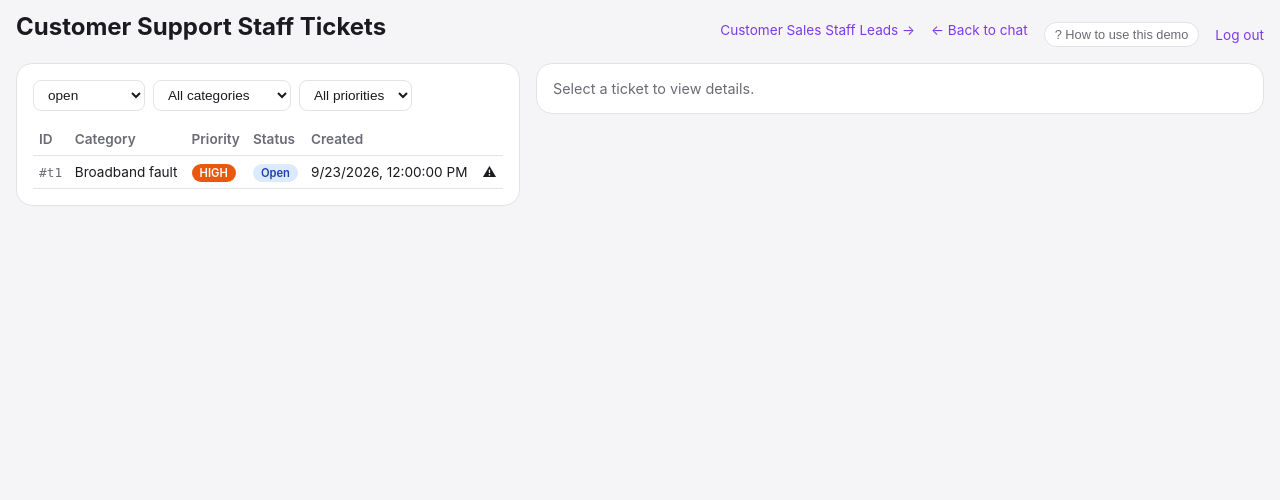
Test: StaffDashboard › 'View duplicate' shows the linked ticket's full detail alongside the current one, without navigating away
Click the text "Broadband fault": point(268, 172) [33, 156, 503, 188]
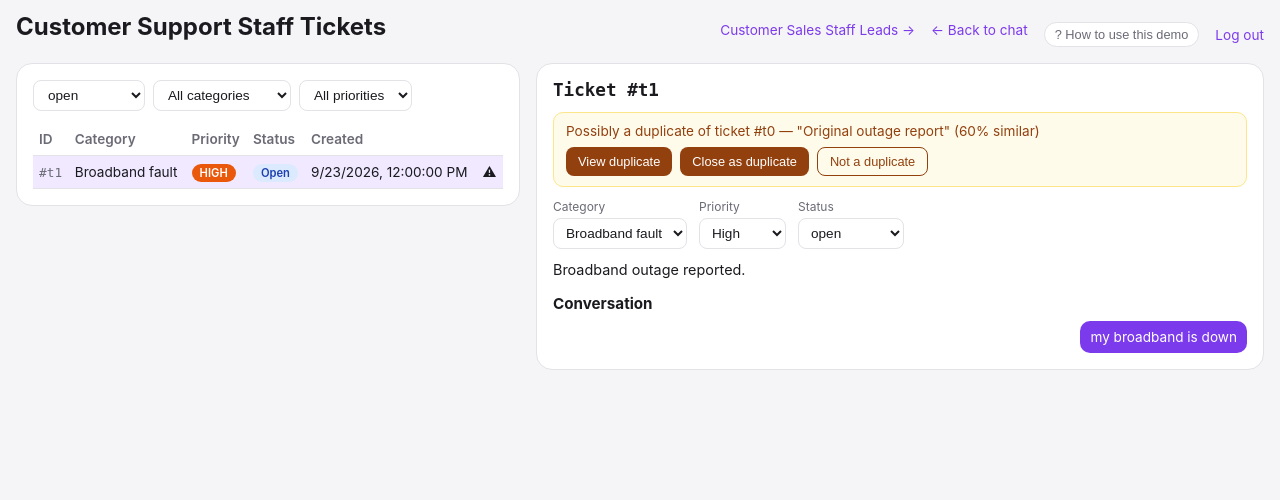
Expected: the text "my broadband is down" is shown, [1080, 321, 1247, 353]
Click the button "View duplicate": point(619, 162) [566, 147, 672, 176]
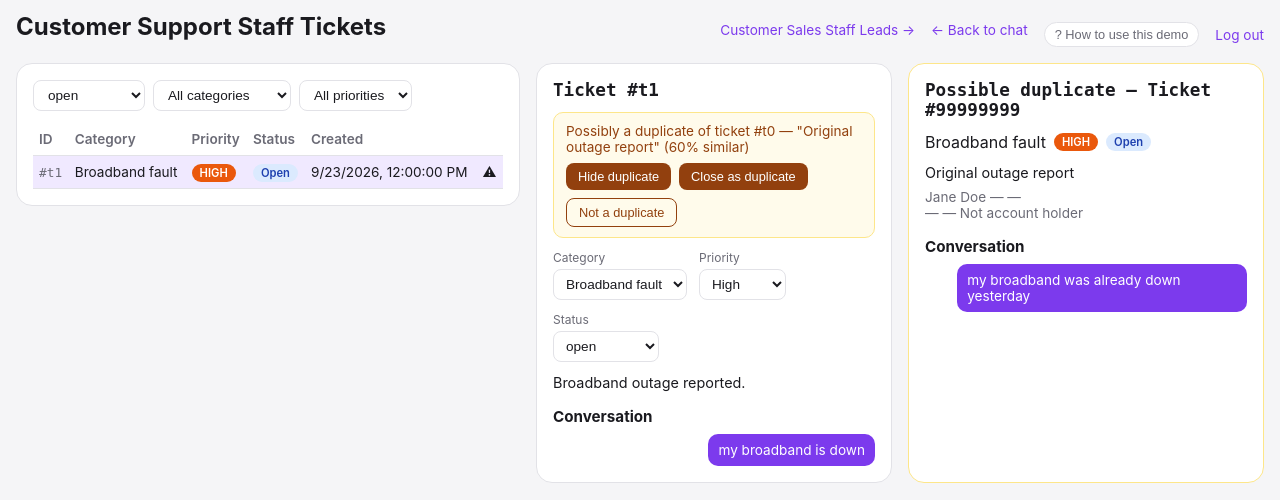
Expected: the heading "Possible duplicate — Ticket #99999999" is shown, [925, 80, 1247, 120]
Expected: the text "Original outage report" is shown, [925, 164, 1074, 181]
Expected: the text "Jane Doe — — — — Not account holder" is shown, [925, 189, 1083, 221]
# Toggling again hides it.
Click the button "Hide duplicate": point(619, 176) [566, 163, 671, 190]
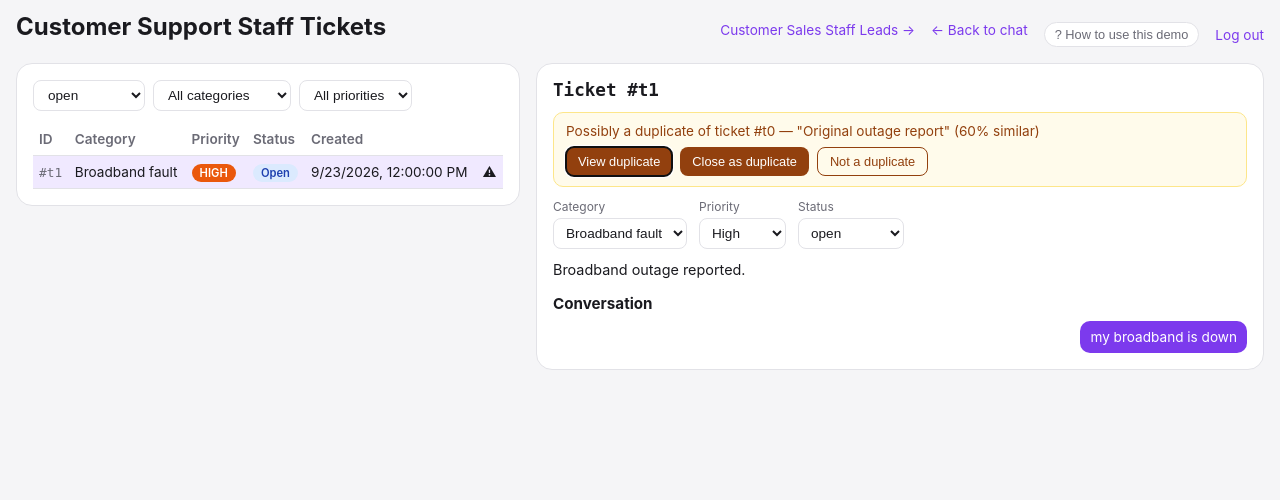
Expected: the heading "Possible duplicate — Ticket #99999999" is gone
